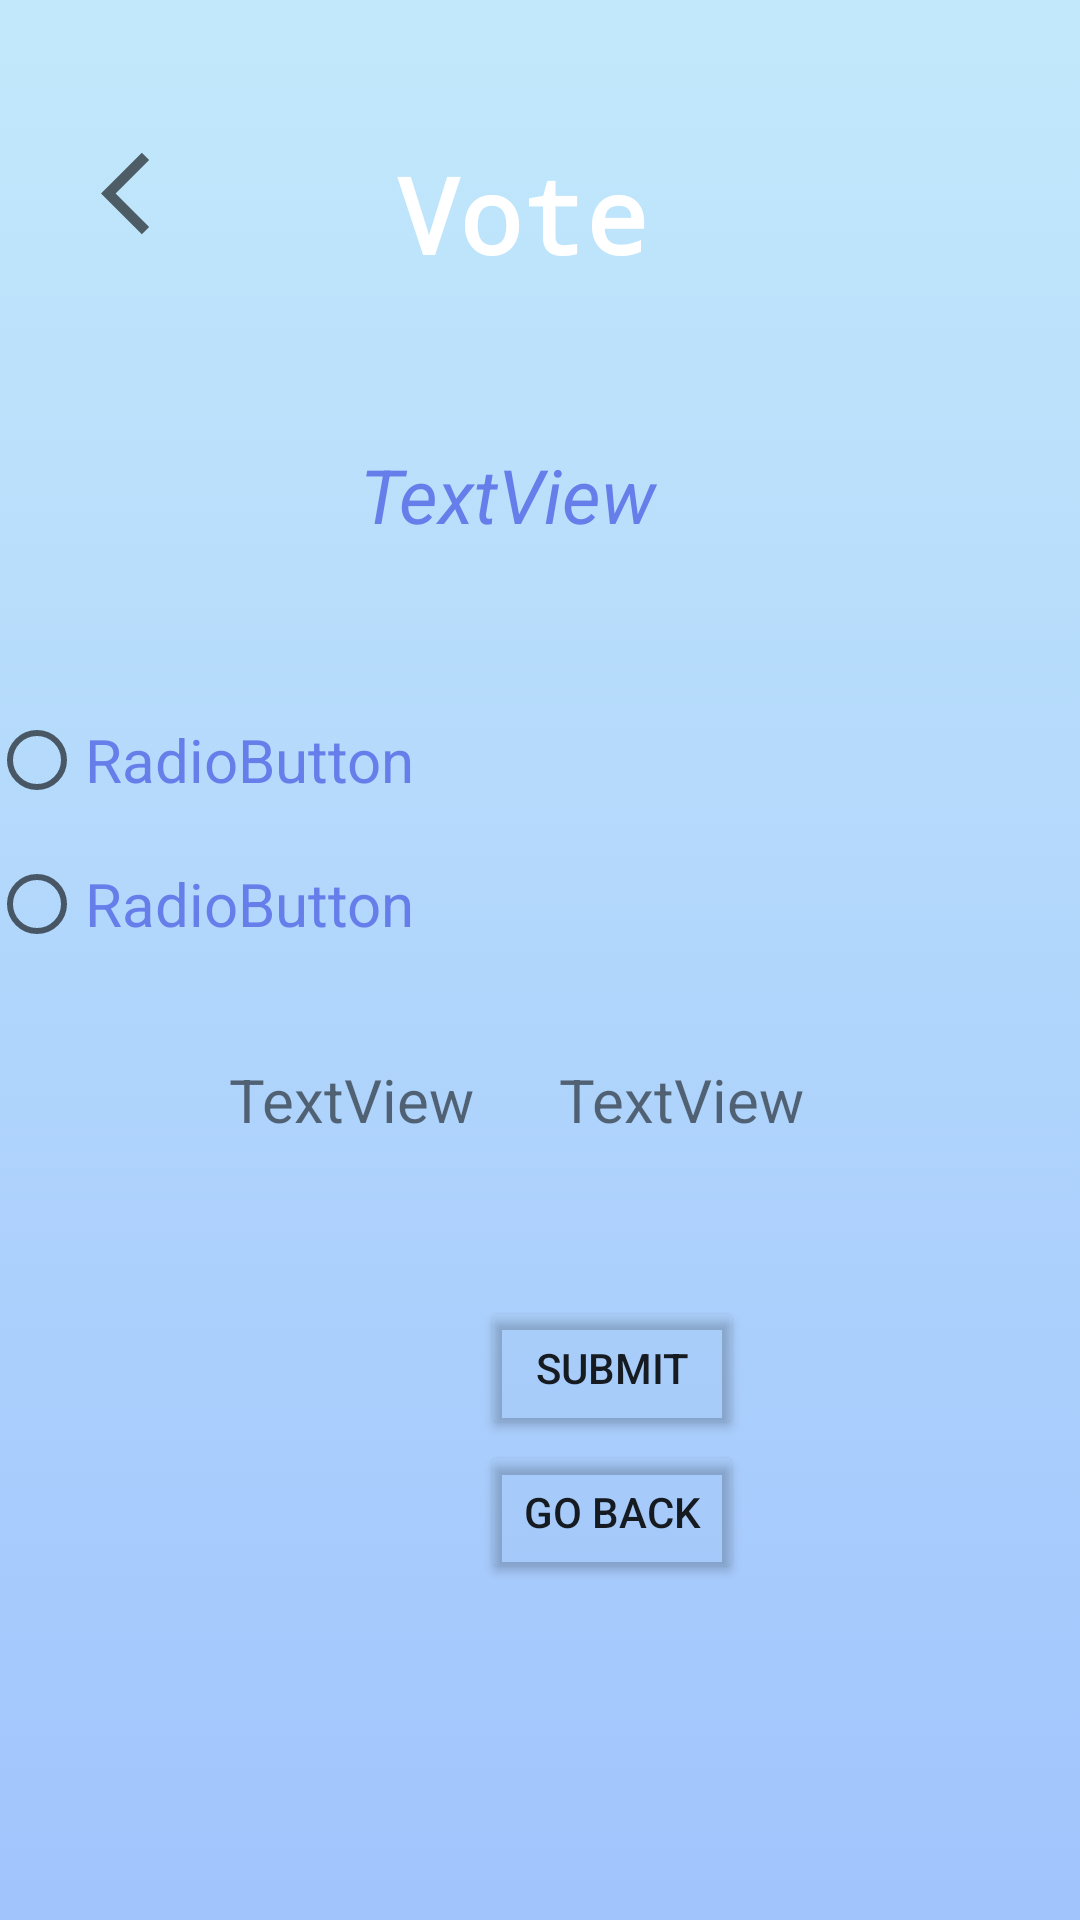

Named icons in this screenshot (1080×1920) and their centers, (x=x, y=y):
arrow back: (x=125, y=193)
